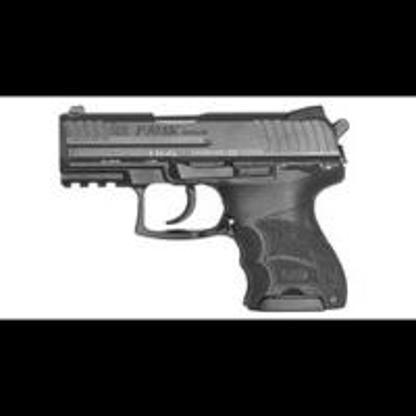weapon: (53, 103, 354, 311)
